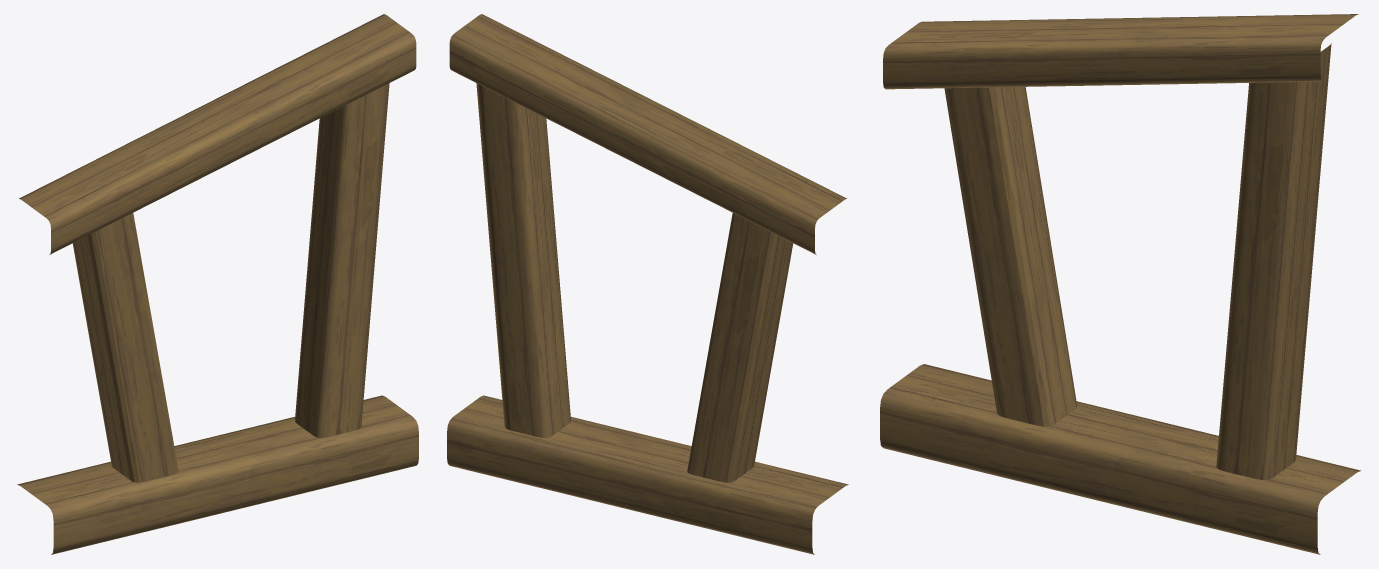
File: SM_roof_frame_04.glb
3 views of the same model, side by side, from view 1: azimuth 30°, elevation 25°; view 2: azimuth 150°, elevation 25°; view 3: azimuth 330°, elevation 25° (orthographic). The views are drawn at different scales.
Visible parts, largest first — view 1: SM_roof_frame_04; view 2: SM_roof_frame_04; view 3: SM_roof_frame_04.
Boxes of the visible parts, x1,y1,x2,y2 form: SM_roof_frame_04: [17, 14, 418, 554]; SM_roof_frame_04: [447, 14, 848, 554]; SM_roof_frame_04: [880, 14, 1360, 554].
Size of the model in its own units: 3.2 by 3.6 by 0.6.
1 material, 1 textured.
